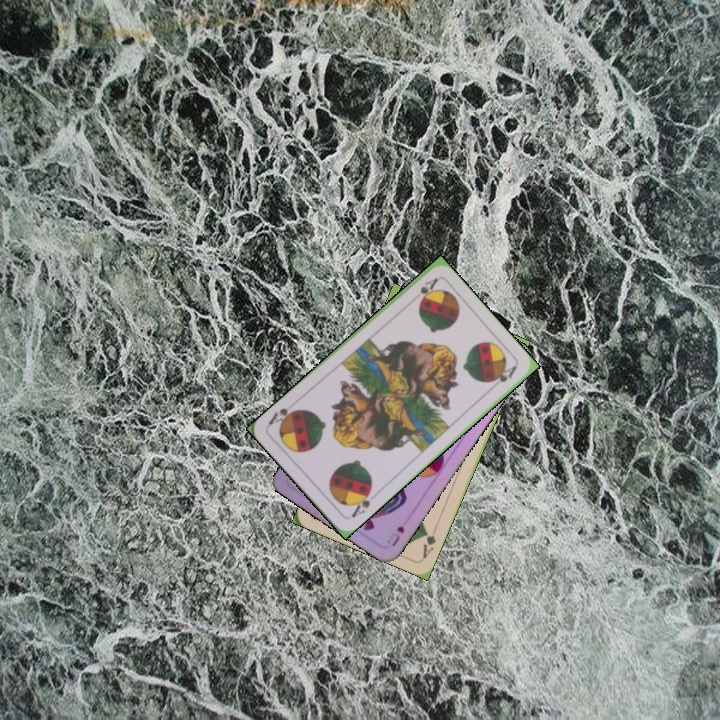GA: (418, 522, 440, 561)
SA: (347, 485, 374, 521), (416, 274, 441, 303)
SU: (383, 522, 407, 549)
